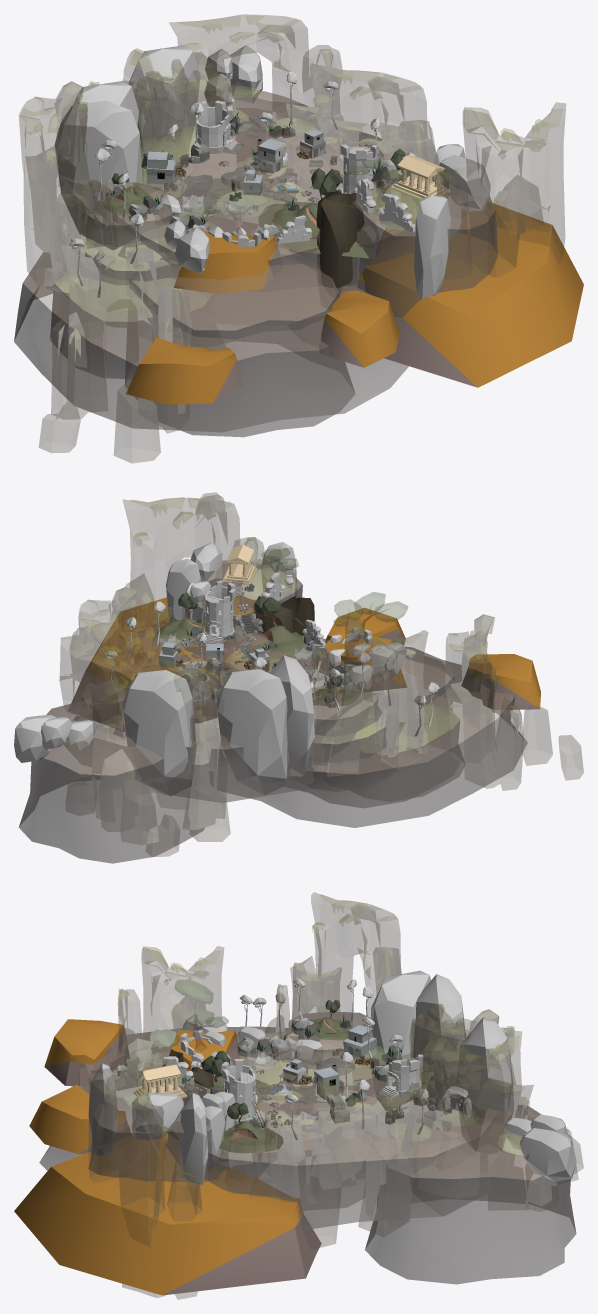
The model's file is temple-landscape.fbx.
3 views of the same model, one above another, from view 1: azimuth 30°, elevation 25°; view 2: azimuth 150°, elevation 25°; view 3: azimuth 270°, elevation 25° (orthographic). The views are drawn at different scales.
Visible parts, largest first — view 1: dirtcliff_Mesh1_Model.004, Slope.002, dirtcliff_Mesh1_Model.007, dirtcliff_Mesh1_Model.001, Rock.021_Cube.009, Rock.021_Cube.011, Rock.021_Cube.008, Rock.021_Cube.013, dirtcliff_Mesh1_Model.003, mff_stone_0.007, cliff_Mesh1_Model.001, Rock.021_Cube.002 (+35 smaller); view 2: dirtcliff_Mesh1_Model.004, dirtcliff_Mesh1_Model.002, dirtcliff_Mesh1_Model.001, Rock.021_Cube.008, Rock.021_Cube.009, Rock.021_Cube.011, Rock.021_Cube.010, Slope.002, mff_stone_0.017, mff_stone_0.006, Rock.021_Cube.012, Rock.021_Cube.013 (+36 smaller); view 3: Slope.002, dirtcliff_Mesh1_Model.001, dirtcliff_Mesh1_Model.002, Rock.021_Cube.002, Rock.021_Cube.011, Rock.021_Cube.013, Rock.021_Cube.008, Rock.021_Cube.009, dirtcliff_Mesh1_Model.003, mff_stone_0.017, dirtcliff_Mesh1_Model.004, Rock.021_Cube.001 (+32 smaller).
Boxes of the visible parts, bbox=[...] form: dirtcliff_Mesh1_Model.004: bbox=[14, 216, 408, 432]; Slope.002: bbox=[356, 202, 583, 387]; dirtcliff_Mesh1_Model.007: bbox=[125, 247, 354, 437]; dirtcliff_Mesh1_Model.001: bbox=[86, 108, 418, 324]; Rock.021_Cube.009: bbox=[39, 245, 191, 463]; Rock.021_Cube.011: bbox=[437, 102, 565, 277]; Rock.021_Cube.008: bbox=[19, 81, 157, 292]; Rock.021_Cube.013: bbox=[169, 14, 342, 179]; dirtcliff_Mesh1_Model.003: bbox=[352, 172, 497, 317]; mff_stone_0.007: bbox=[54, 100, 142, 250]; cliff_Mesh1_Model.001: bbox=[50, 275, 224, 378]; Rock.021_Cube.002: bbox=[295, 63, 435, 183]; dirtcliff_Mesh1_Model.004: bbox=[209, 646, 527, 827]; dirtcliff_Mesh1_Model.002: bbox=[18, 696, 204, 863]; dirtcliff_Mesh1_Model.001: bbox=[63, 618, 377, 802]; Rock.021_Cube.008: bbox=[313, 617, 428, 776]; Rock.021_Cube.009: bbox=[445, 614, 583, 790]; Rock.021_Cube.011: bbox=[123, 492, 264, 627]; Rock.021_Cube.010: bbox=[69, 655, 225, 844]; Slope.002: bbox=[69, 596, 319, 731]; mff_stone_0.017: bbox=[122, 670, 196, 795]; mff_stone_0.006: bbox=[216, 669, 288, 794]; Rock.021_Cube.012: bbox=[89, 688, 230, 856]; Rock.021_Cube.013: bbox=[59, 622, 167, 746]; Slope.002: bbox=[14, 1134, 321, 1295]; dirtcliff_Mesh1_Model.001: bbox=[166, 1036, 500, 1230]; dirtcliff_Mesh1_Model.002: bbox=[365, 1104, 576, 1284]; Rock.021_Cube.002: bbox=[277, 1080, 416, 1249]; Rock.021_Cube.011: bbox=[88, 1038, 201, 1299]; Rock.021_Cube.013: bbox=[354, 1031, 521, 1170]; Rock.021_Cube.008: bbox=[271, 892, 401, 1080]; Rock.021_Cube.009: bbox=[116, 946, 223, 1058]; dirtcliff_Mesh1_Model.003: bbox=[88, 1080, 228, 1181]; mff_stone_0.017: bbox=[456, 1017, 513, 1153]; dirtcliff_Mesh1_Model.004: bbox=[39, 1026, 400, 1209]; Rock.021_Cube.001: bbox=[228, 1109, 360, 1196].
Size of the model in its own units: 88821 by 39486 by 84380.
